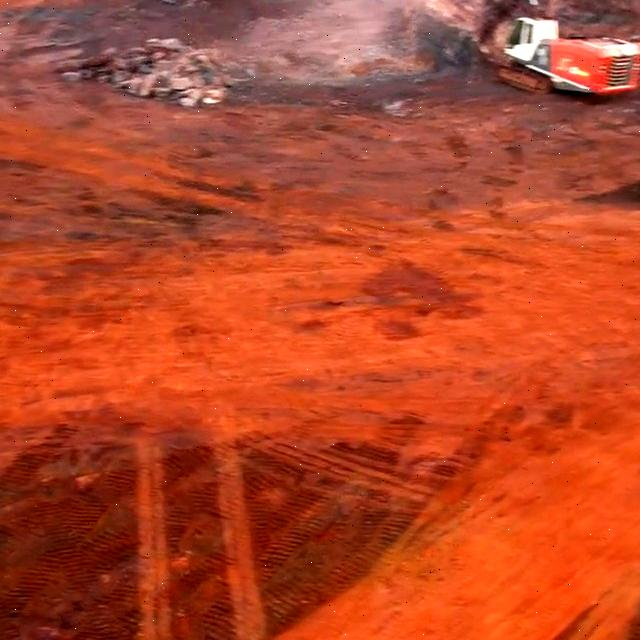Blast rig: (509, 11, 640, 95)
